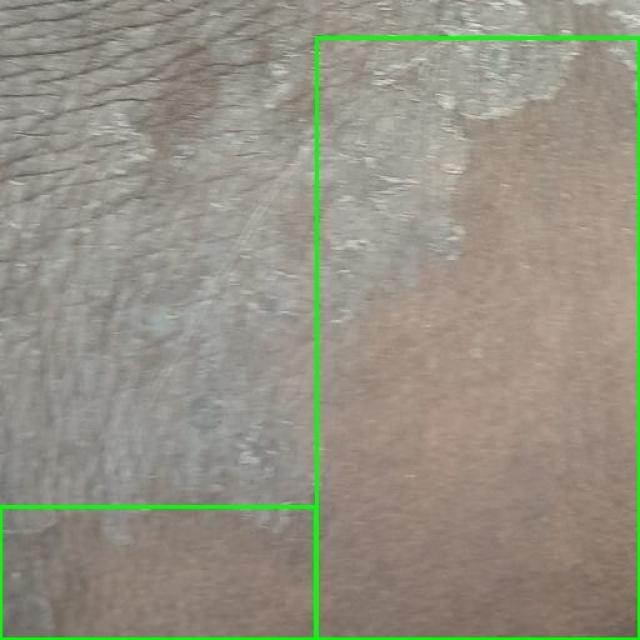Eczema: (316, 38, 639, 639), (0, 506, 316, 639)
